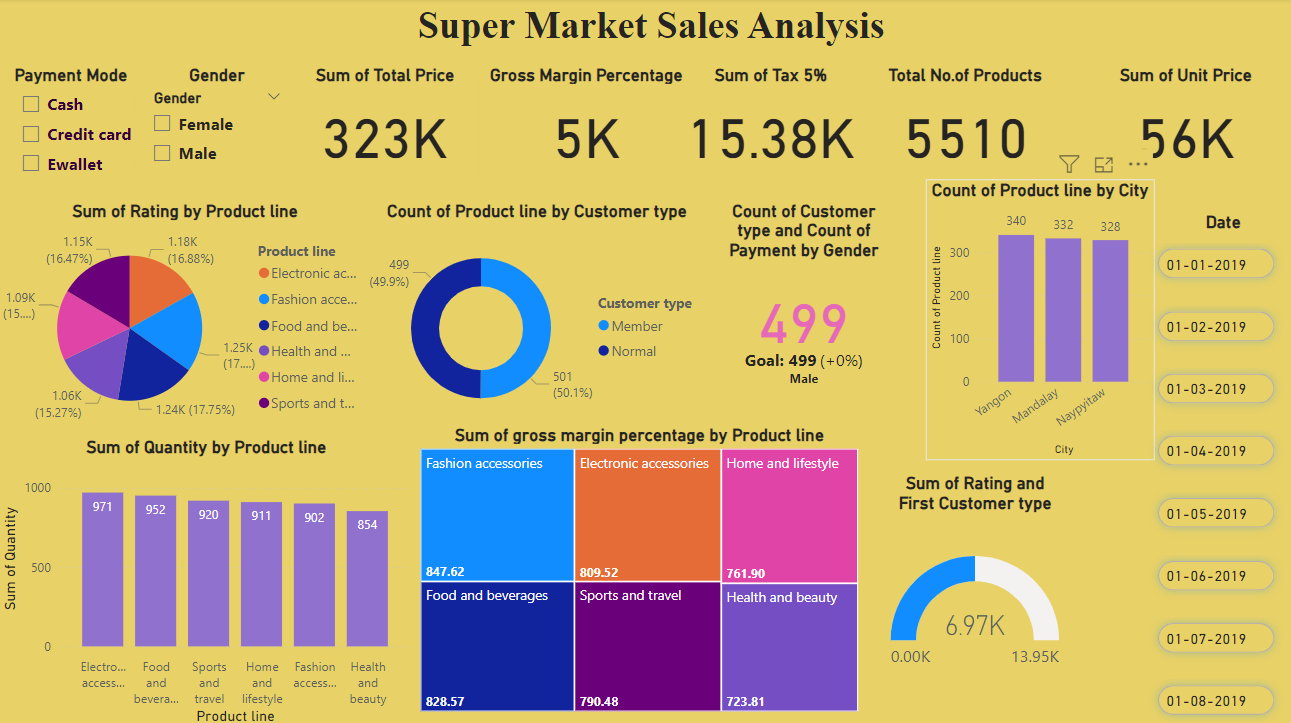

The page's visual inventory and layout, read from the dashboard file:
{"tool":"powerbi","page":{"name":"Page 1","canvas":[1280,720],"ordinal":0},"visuals":[{"type":"card","title":"Sum of Total Price","fields":{"Values":["Sum(supermarket_sales.Total)"]},"box":[267.7,64.8,223.7,112.5],"z":0},{"type":"card","title":"Sum of Unit Price","fields":{"Values":["Sum(supermarket_sales.Unit price)"]},"box":[1045.2,64.8,234.7,112.5],"z":1000},{"type":"card","title":"Sum of  Tax 5%","fields":{"Values":["Sum(supermarket_sales.Tax 5%)"]},"box":[665,64.8,183.4,112.5],"z":2000},{"type":"card","title":"Total No.of Products","fields":{"Values":["Sum(supermarket_sales.Quantity)"]},"box":[848.4,64.8,196.8,112.5],"z":3000},{"type":"slicer","title":"Payment Mode","fields":{"Values":["supermarket_sales.Payment"]},"box":[12.2,64.8,128.4,123.5],"z":4000},{"type":"card","title":"Gross Margin Percentage","fields":{"Values":["Sum(supermarket_sales.gross margin percentage)"]},"box":[471.9,64.8,209,112.5],"z":5000},{"type":"columnChart","fields":{"Category":["supermarket_sales.Product line"],"Y":["Sum(supermarket_sales.Quantity)"]},"box":[0,429.1,409.5,286],"z":6000},{"type":"donutChart","fields":{"Category":["supermarket_sales.Customer type"],"Y":["CountNonNull(supermarket_sales.Product line)"]},"box":[354.5,198,347.2,231],"z":7000},{"type":"pieChart","fields":{"Y":["Sum(supermarket_sales.Rating)"],"Series":["supermarket_sales.Product line"]},"box":[0,198,367.9,231],"z":8000},{"type":"columnChart","fields":{"Category":["supermarket_sales.City"],"Y":["CountNonNull(supermarket_sales.Product line)"]},"box":[908.3,177.2,223.7,275],"z":9000},{"type":"slicer","title":"Gender","fields":{"Values":["supermarket_sales.Gender"]},"box":[140.6,64.8,149.1,112.5],"z":10000},{"type":"treemap","fields":{"Group":["supermarket_sales.Product line"],"Values":["Sum(supermarket_sales.gross margin percentage)"]},"box":[409.5,416.8,437.6,286],"z":11000},{"type":"textbox","box":[0,0,1279.9,64.8],"z":12000},{"type":"advancedSlicerVisual","fields":{"Values":["supermarket_sales.Date"]},"box":[1118.5,209,161.4,511],"z":13000},{"type":"gauge","fields":{"Y":["Sum(supermarket_sales.Rating)"]},"box":[869.1,464.5,174.8,238.4],"z":14000},{"type":"kpi","fields":{"Indicator":["CountNonNull(supermarket_sales.Customer type)"],"TrendLine":["supermarket_sales.Gender"],"Goal":["CountNonNull(supermarket_sales.Payment)"]},"box":[701.7,198,174.8,218.8],"z":15000}]}

Visuals, with their boxes in screenshot pixels (x1, y1, x2, y2), scaled from the page's 1280x720 canvas onto the 1291x723 screenshot:
"Sum of Total Price" card: locate(270, 65, 496, 178)
"Sum of Unit Price" card: locate(1054, 65, 1290, 178)
"Sum of  Tax 5%" card: locate(671, 65, 856, 178)
"Total No.of Products" card: locate(856, 65, 1054, 178)
"Payment Mode" slicer: locate(12, 65, 142, 189)
"Gross Margin Percentage" card: locate(476, 65, 687, 178)
columnChart - supermarket_sales.Product line x Sum(supermarket_sales.Quantity): locate(0, 431, 413, 718)
donutChart - supermarket_sales.Customer type x CountNonNull(supermarket_sales.Product line): locate(358, 199, 708, 431)
pieChart - Sum(supermarket_sales.Rating) x supermarket_sales.Product line: locate(0, 199, 371, 431)
columnChart - supermarket_sales.City x CountNonNull(supermarket_sales.Product line): locate(916, 178, 1142, 454)
"Gender" slicer: locate(142, 65, 292, 178)
treemap - supermarket_sales.Product line x Sum(supermarket_sales.gross margin percentage): locate(413, 419, 854, 706)
textbox: locate(0, 0, 1290, 65)
advancedSlicerVisual - supermarket_sales.Date: locate(1128, 210, 1290, 722)
gauge - Sum(supermarket_sales.Rating): locate(877, 466, 1053, 706)
kpi - CountNonNull(supermarket_sales.Customer type) x supermarket_sales.Gender: locate(708, 199, 884, 419)
